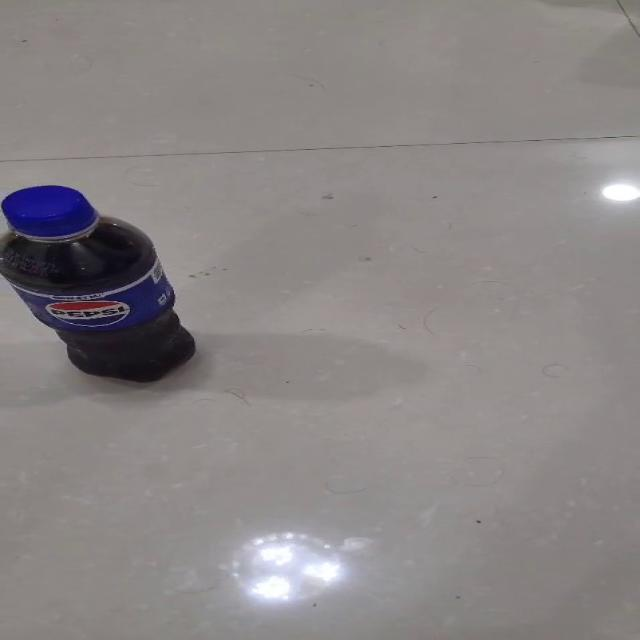plastic: (0, 184, 197, 382)
